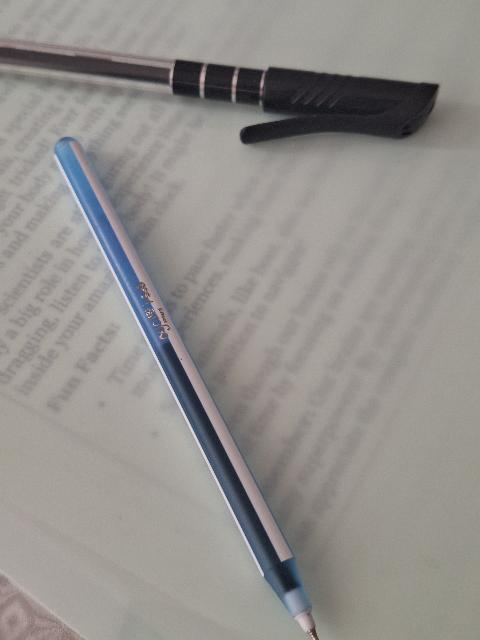writing_tool: (50, 136, 324, 640), (2, 36, 442, 147)
